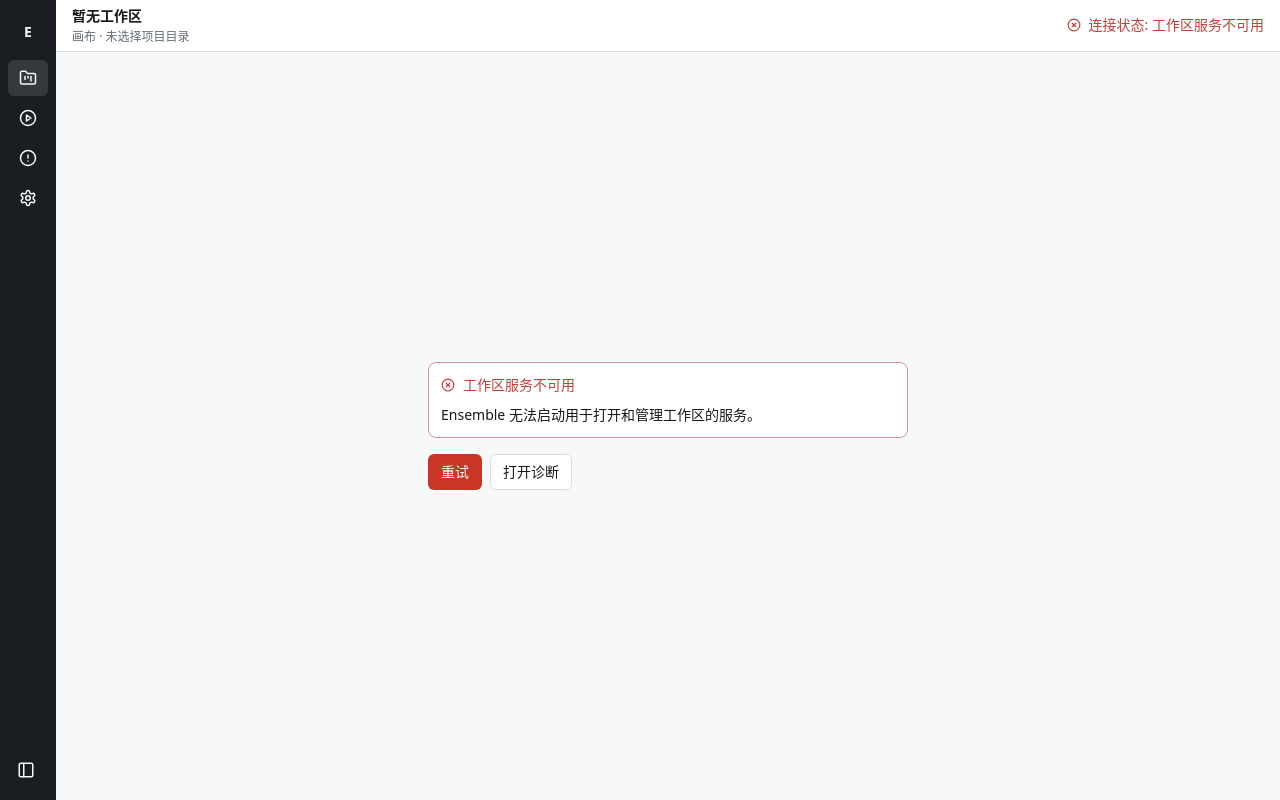
Scenario: AppShell root lifecycle › boots into startup_error with the unavailable production gateway
The image size is (1280, 800).
Check: the button "重试" is shown, box [428, 454, 482, 490]
Check: the text "连接状态: 工作区服务不可用" is shown, box [1089, 15, 1264, 36]
Click the button "打开诊断": click(531, 472) [490, 454, 572, 490]
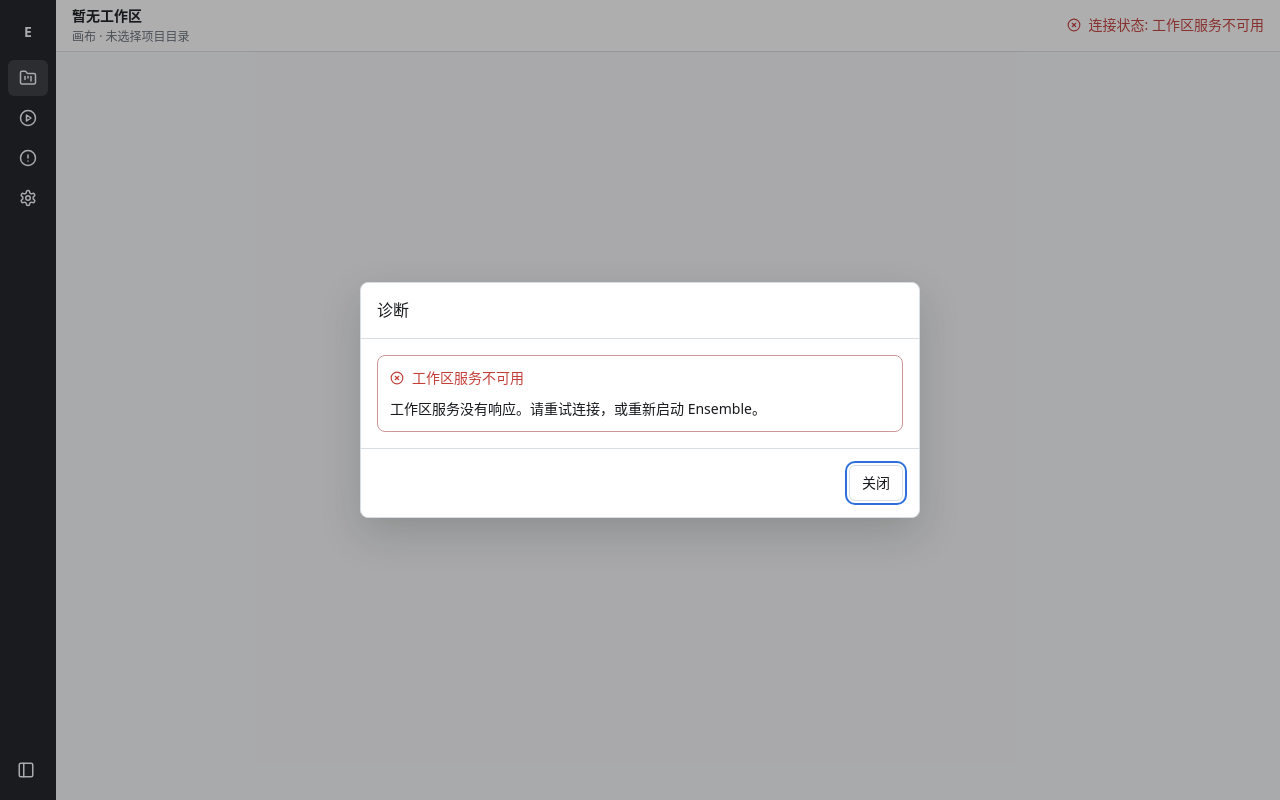
Check: the dialog "诊断 工作区服务不可用 工作区服务没有响应。请重试连接，或重新启动 Ensemble。 关闭" is shown, box [360, 282, 920, 518]
